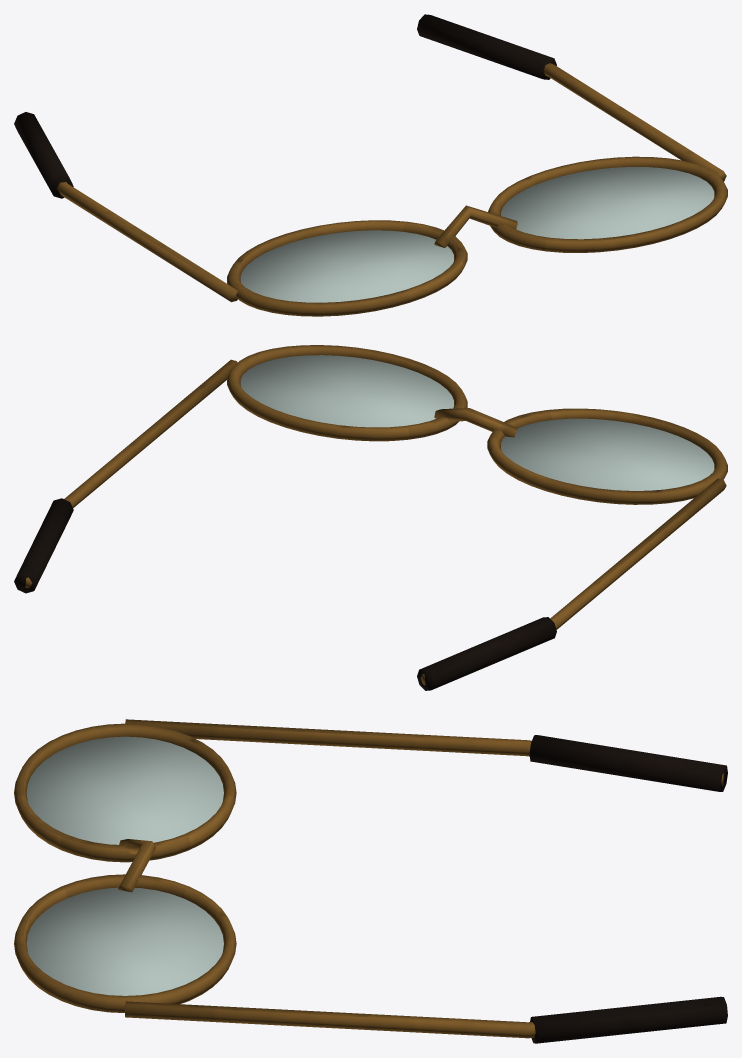
The model's file is prop_brass_eyeglasses.glb.
The picture shows the model from 3 angles, top to bottom: view 1: azimuth 30°, elevation 25°; view 2: azimuth 150°, elevation 25°; view 3: azimuth 270°, elevation 25°; orthographic projection. The views are drawn at different scales.
Visible parts, largest first — view 1: prop_brass_eyeglasses; view 2: prop_brass_eyeglasses; view 3: prop_brass_eyeglasses.
Boxes of the visible parts, x1,y1,x2,y2 form: prop_brass_eyeglasses: [14, 14, 727, 316]; prop_brass_eyeglasses: [14, 345, 727, 690]; prop_brass_eyeglasses: [14, 719, 727, 1043].
Bounding box in the file's own units: 0.1208 × 0.0127 × 0.1241.
3 materials, 2 textured.
